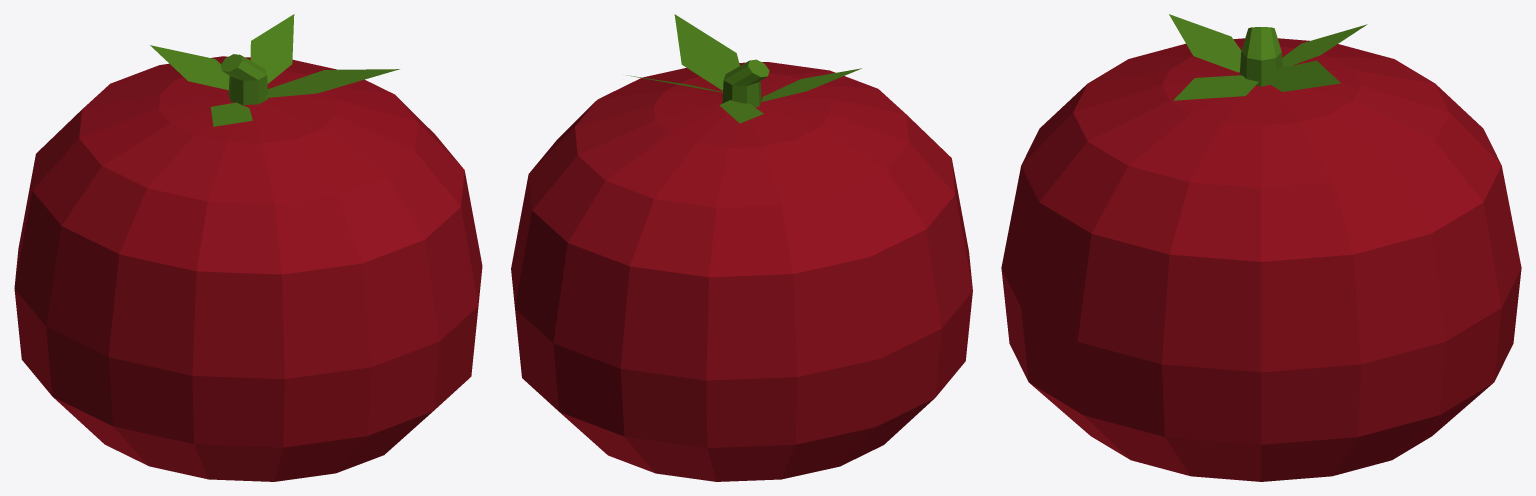
The model's file is tomato.fbx.
3 views of the same model, side by side, from view 1: azimuth 30°, elevation 25°; view 2: azimuth 150°, elevation 25°; view 3: azimuth 270°, elevation 25° (orthographic). The views are drawn at different scales.
Parts seen in each view (by area): view 1: tomato, Plane.003, Plane.001, Cylinder, Plane.002, Plane; view 2: tomato, Plane.001, Cylinder, Plane, Plane.002; view 3: tomato, Plane, Cylinder, Plane.003, Plane.001, Plane.002.
Boxes of the visible parts, x1,y1,x2,y2 form: tomato: (14,56,482,481); Plane.003: (250,14,294,83); Plane.001: (262,69,399,98); Cylinder: (220,54,268,105); Plane.002: (150,45,229,90); Plane: (210,102,252,126); tomato: (511,62,972,481); Plane.001: (674,14,739,90); Cylinder: (722,59,769,107); Plane: (761,68,861,101); Plane.002: (719,100,763,123); tomato: (1001,38,1521,481); Plane: (1169,14,1241,72); Cylinder: (1239,27,1282,86); Plane.003: (1263,60,1340,91); Plane.001: (1173,75,1258,100); Plane.002: (1282,24,1367,67).
Size of the model in its own units: 12.04 by 11.03 by 12.67.
